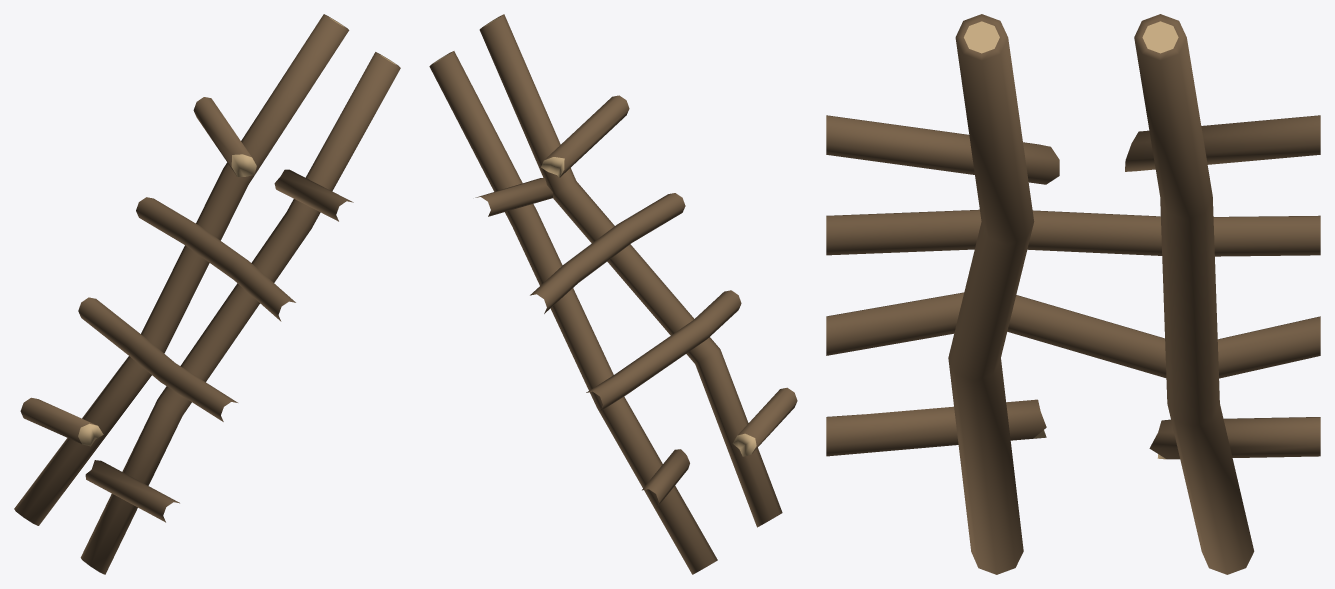
The model's file is rpgpp_av_roof_support_01_6x5x3_half_b.gltf.
The picture shows the model from 3 angles, left to right: view 1: azimuth 30°, elevation 25°; view 2: azimuth 150°, elevation 25°; view 3: azimuth 270°, elevation 25°; orthographic projection. The views are drawn at different scales.
Parts seen in each view (by area): view 1: rpgpp_av_roof_support_01_6x5x3_half_b; view 2: rpgpp_av_roof_support_01_6x5x3_half_b; view 3: rpgpp_av_roof_support_01_6x5x3_half_b.
Boxes of the visible parts, left/top/right/bottom form: rpgpp_av_roof_support_01_6x5x3_half_b: left=14, top=14, right=400, bottom=574; rpgpp_av_roof_support_01_6x5x3_half_b: left=429, top=14, right=797, bottom=574; rpgpp_av_roof_support_01_6x5x3_half_b: left=826, top=14, right=1320, bottom=574.
Size of the model in its own units: 0.0378 by 0.0529 by 0.03.
Materials: 1 (1 with a texture image).
